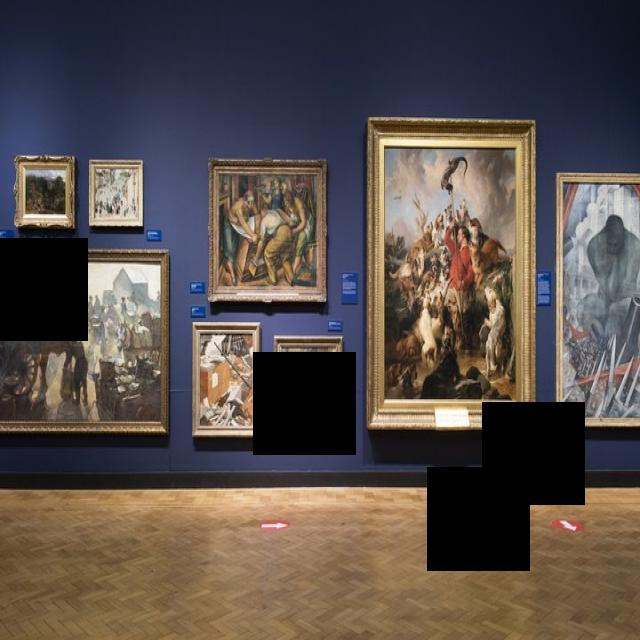Tablo: (384, 145, 517, 401), (0, 259, 162, 423), (562, 180, 640, 419), (218, 172, 317, 288), (199, 333, 254, 428), (280, 346, 336, 413), (94, 167, 139, 219), (25, 168, 66, 215)
